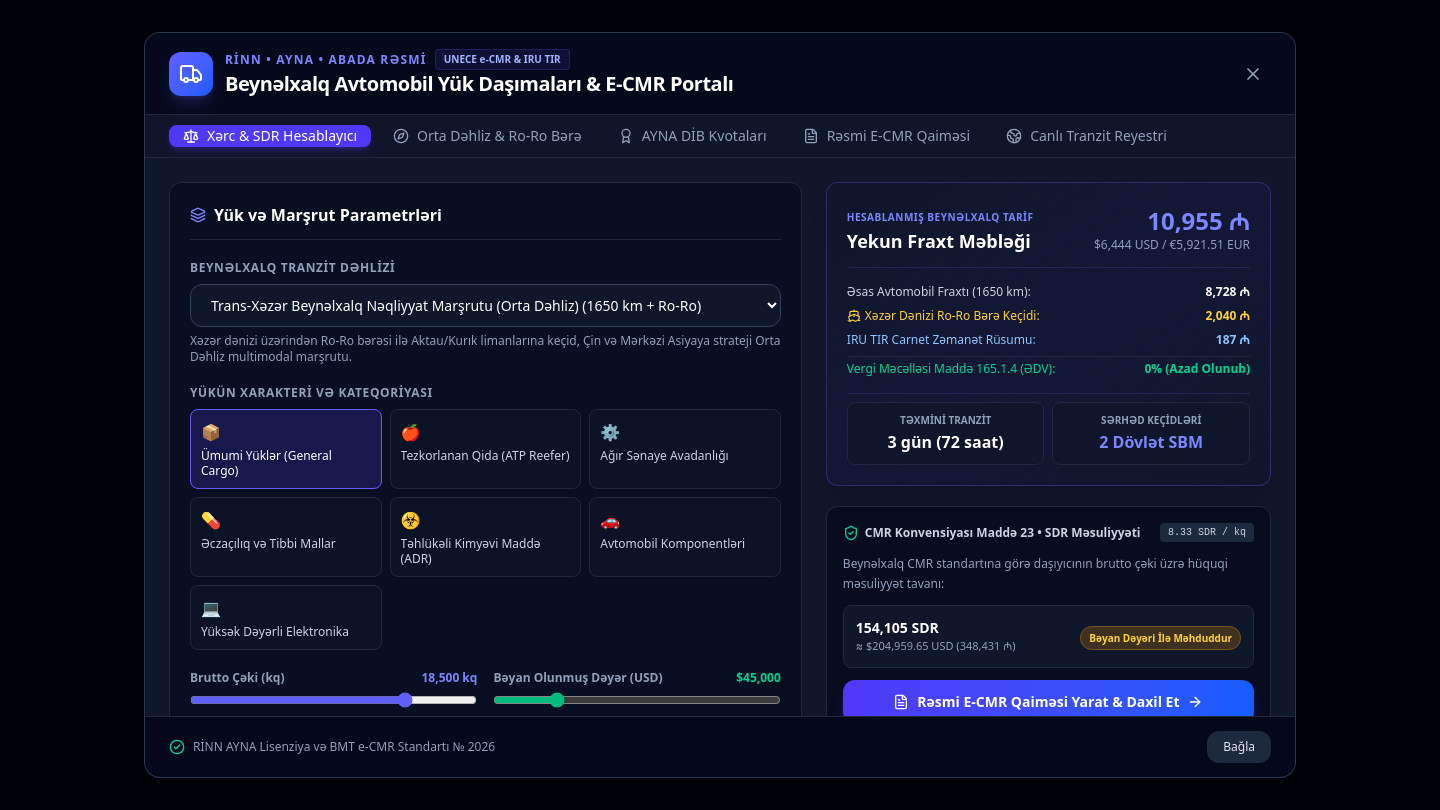
it: InternationalFreightModal Component › updates freight calculation when corridor is changed
Select "Bakı — Gürcüstan — Türkiyə (Avropa Magistralı) (1850 km )" in the dropdown with test id "corridor-select" at [485, 306], box top-left (190, 284), bottom-right (781, 327)
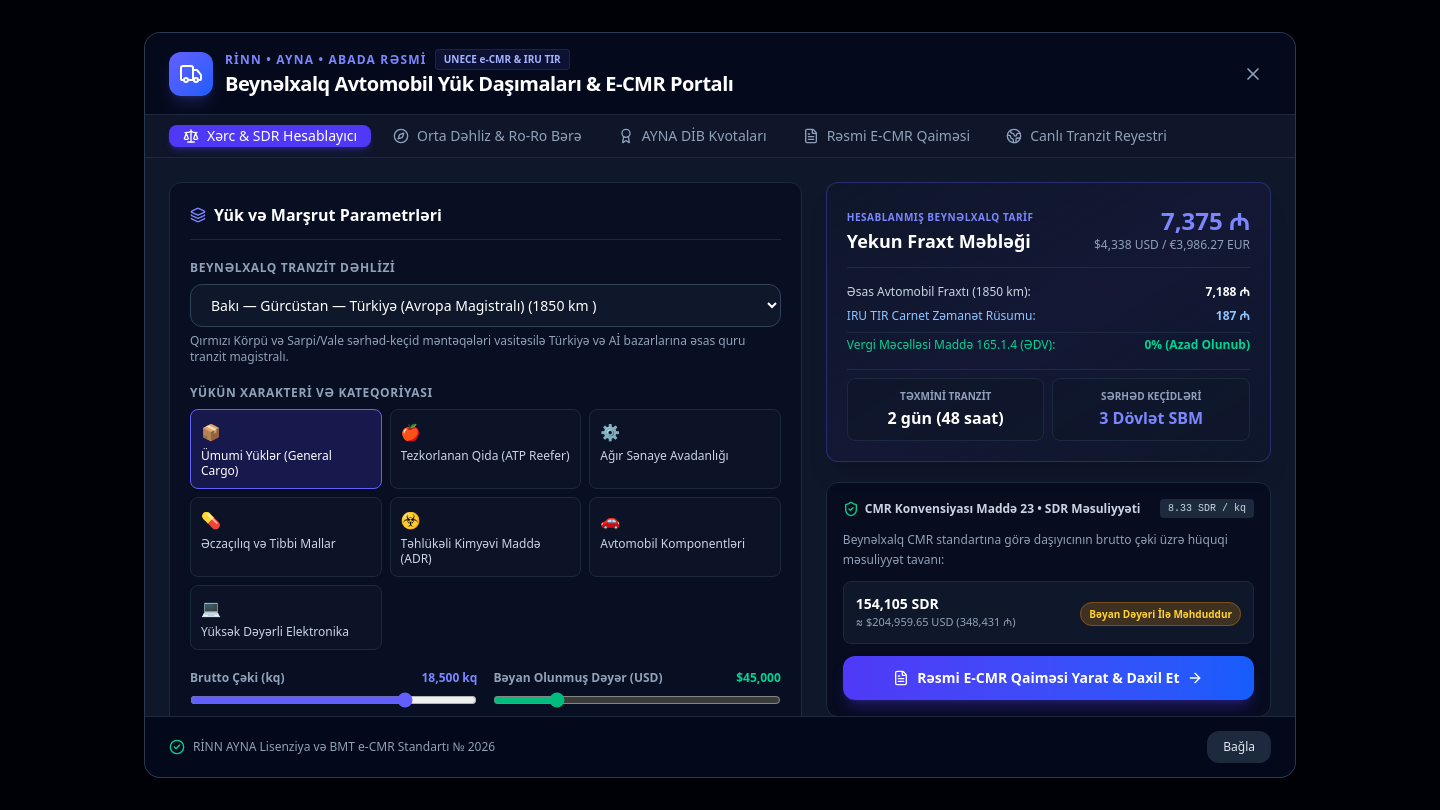
Result: the text "Qırmızı Körpü və Sarpi" is shown at top-left (190, 332), bottom-right (745, 365)
